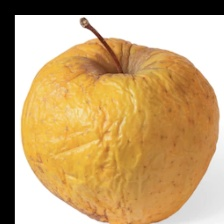apple: (2, 42, 201, 191)
